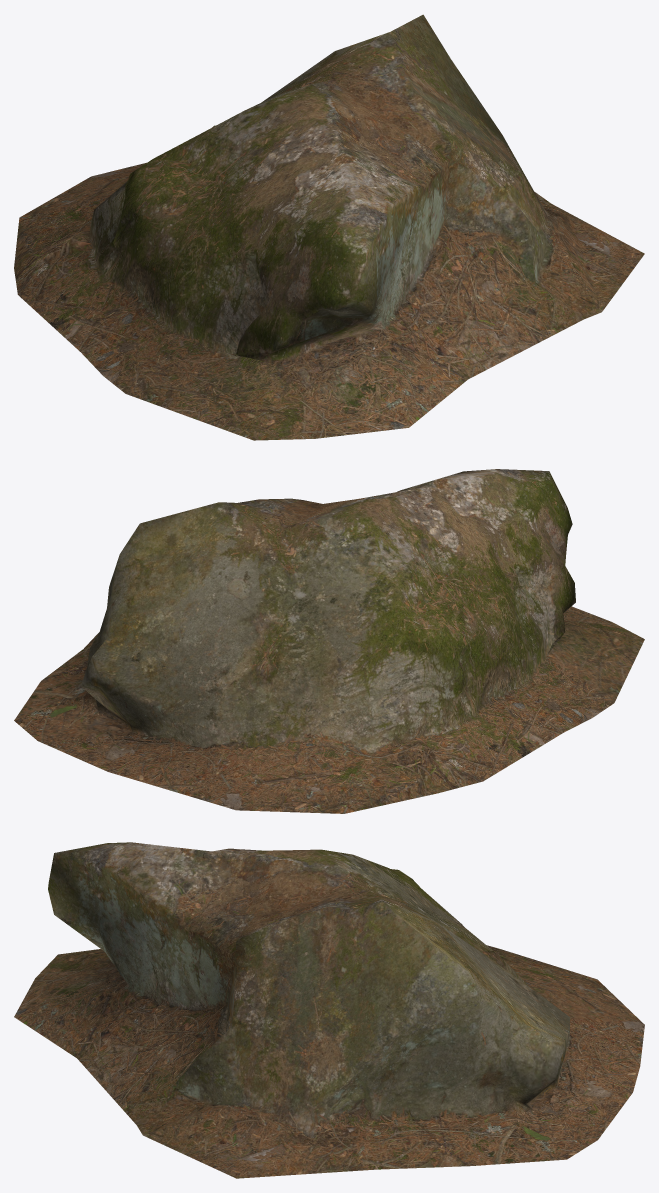
Rendered from mossy_rock.glb.
3 views of the same model, one above another, from view 1: azimuth 30°, elevation 25°; view 2: azimuth 150°, elevation 25°; view 3: azimuth 270°, elevation 25° (orthographic). The views are drawn at different scales.
Parts seen in each view (by area): view 1: tjtsfbpfa_LOD0_TIER3_000; view 2: tjtsfbpfa_LOD0_TIER3_000; view 3: tjtsfbpfa_LOD0_TIER3_000.
Part boxes in pixels (box(x1,y1,x2,y2)): tjtsfbpfa_LOD0_TIER3_000: box(14, 14, 644, 440); tjtsfbpfa_LOD0_TIER3_000: box(14, 469, 644, 813); tjtsfbpfa_LOD0_TIER3_000: box(14, 842, 644, 1178).
Bounding box in the file's own units: 0.7025 × 0.263 × 0.7675.
Materials: 1 (1 with a texture image).
